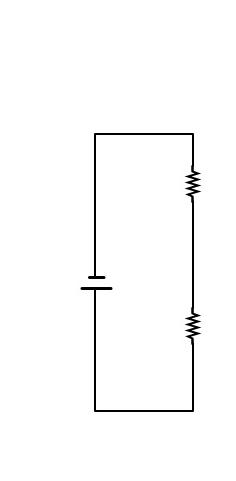resistor: (172, 278, 216, 357), (176, 153, 213, 216)
